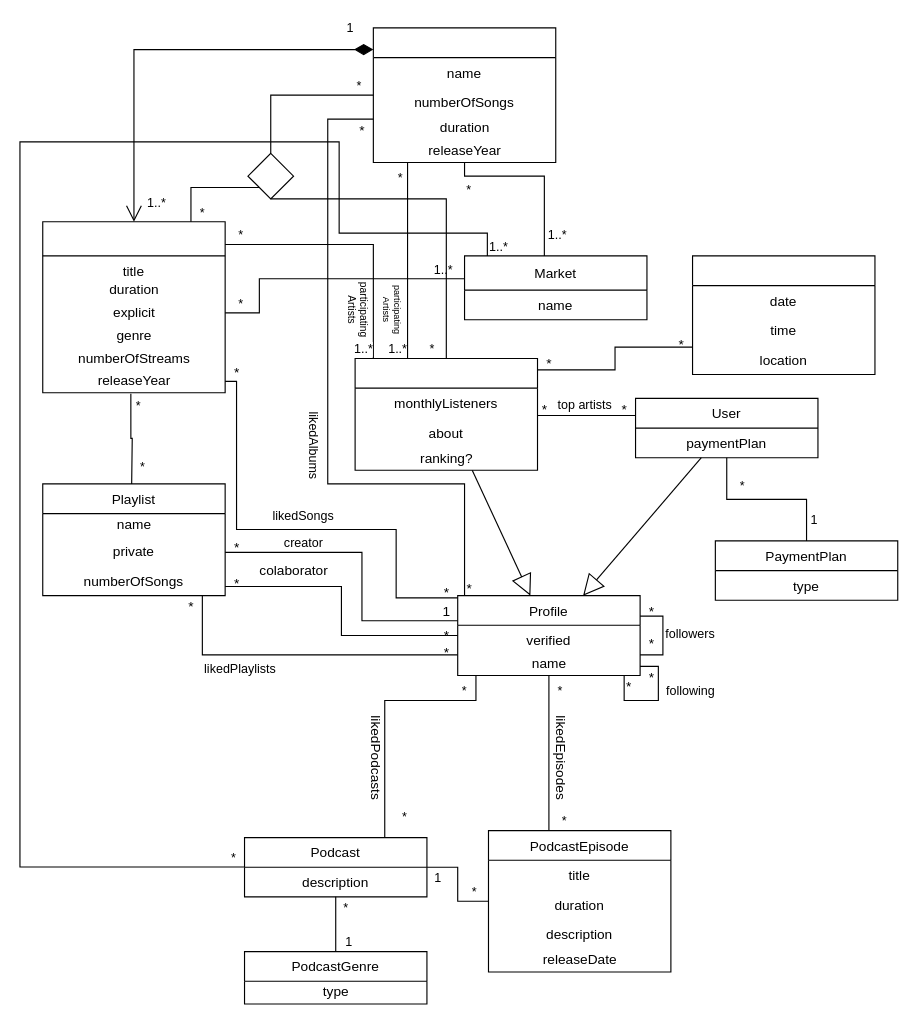
The diagram is 918 pixels wide and 1024 high, and some of its shapes have lost their labels. Each missing label, with the box of its shape:
Album: (372, 27, 556, 162)
Artist: (354, 357, 538, 470)
Concert: (691, 255, 875, 374)
Song: (42, 221, 225, 393)
